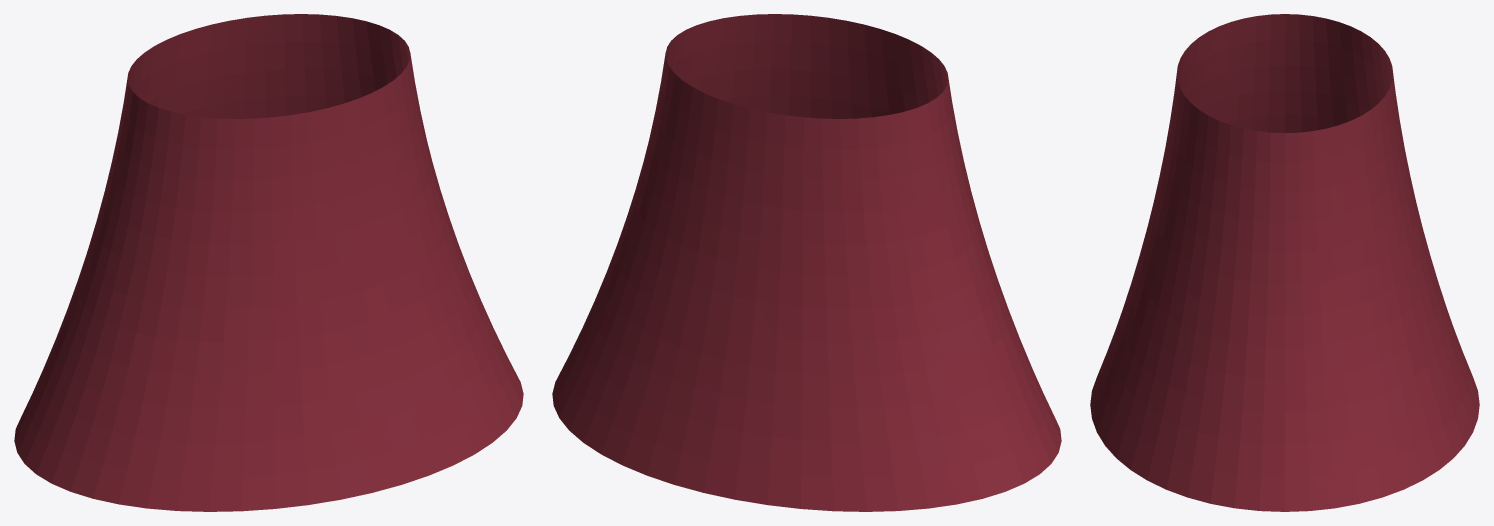
The model's file is skirt.obj.
The picture shows the model from 3 angles, left to right: view 1: azimuth 30°, elevation 25°; view 2: azimuth 150°, elevation 25°; view 3: azimuth 270°, elevation 25°; orthographic projection. The views are drawn at different scales.
Visible parts, largest first — view 1: skirt; view 2: skirt; view 3: skirt.
Part boxes in pixels (x1,y1,x2,y2): skirt: [14, 14, 523, 511]; skirt: [552, 14, 1061, 511]; skirt: [1090, 14, 1479, 511].
Bounding box in the file's own units: 55.04 × 39.63 × 42.23.
